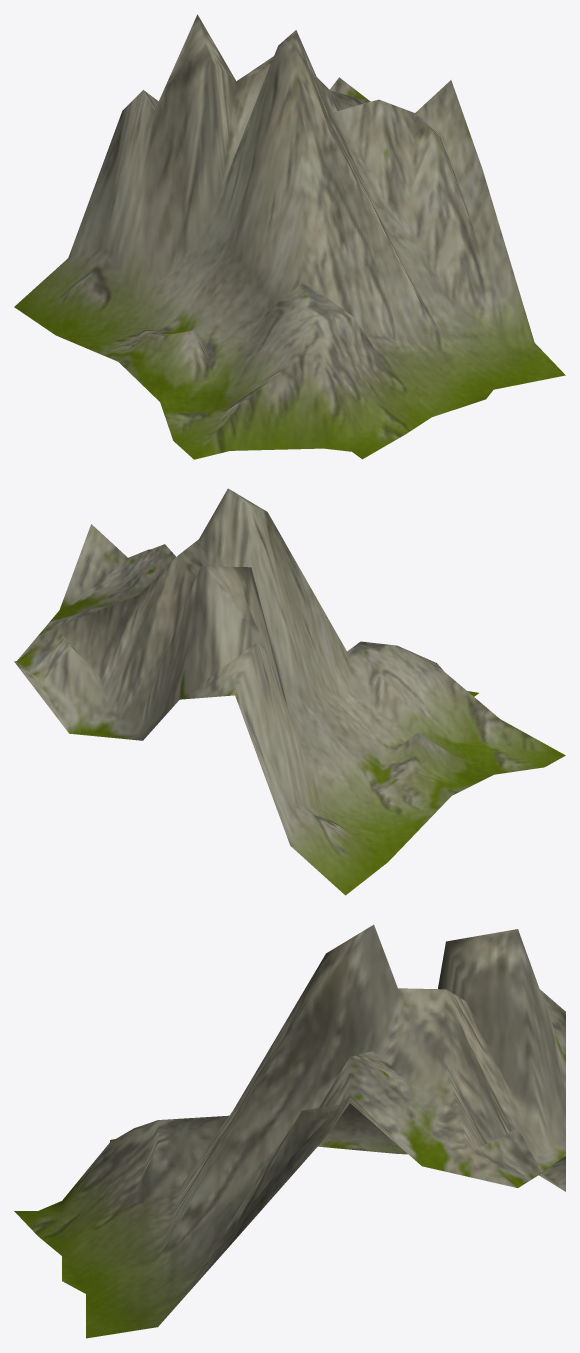
The model's file is Terrain_11.fbx.
3 renders of one model, top to bottom at view 1: azimuth 30°, elevation 25°; view 2: azimuth 150°, elevation 25°; view 3: azimuth 270°, elevation 25°, orthographic. The views are drawn at different scales.
Parts seen in each view (by area): view 1: Terrain_11; view 2: Terrain_11; view 3: Terrain_11.
Part boxes in pixels (x1,y1,x2,y2): Terrain_11: [14, 14, 565, 459]; Terrain_11: [14, 488, 565, 895]; Terrain_11: [14, 924, 565, 1338].
Bounding box in the file's own units: 16.16 × 12.53 × 18.59.
